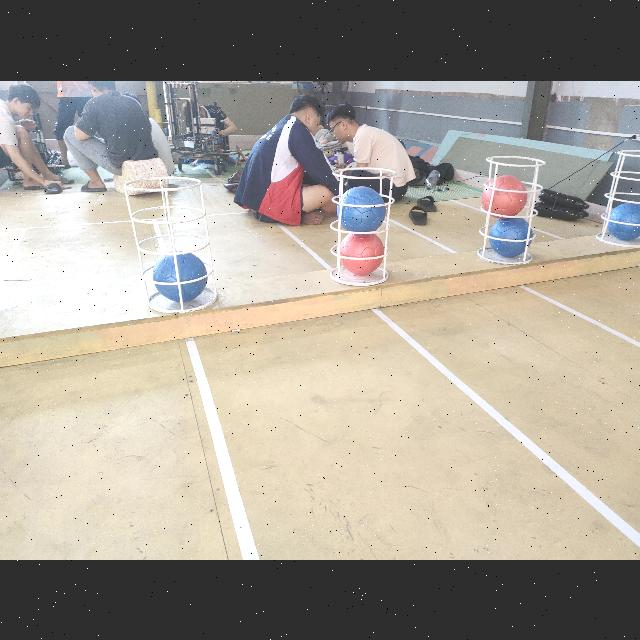B: (154, 250, 206, 300), (335, 185, 385, 233), (488, 216, 534, 256), (608, 202, 640, 240)
R: (339, 231, 385, 275), (482, 175, 526, 219)
